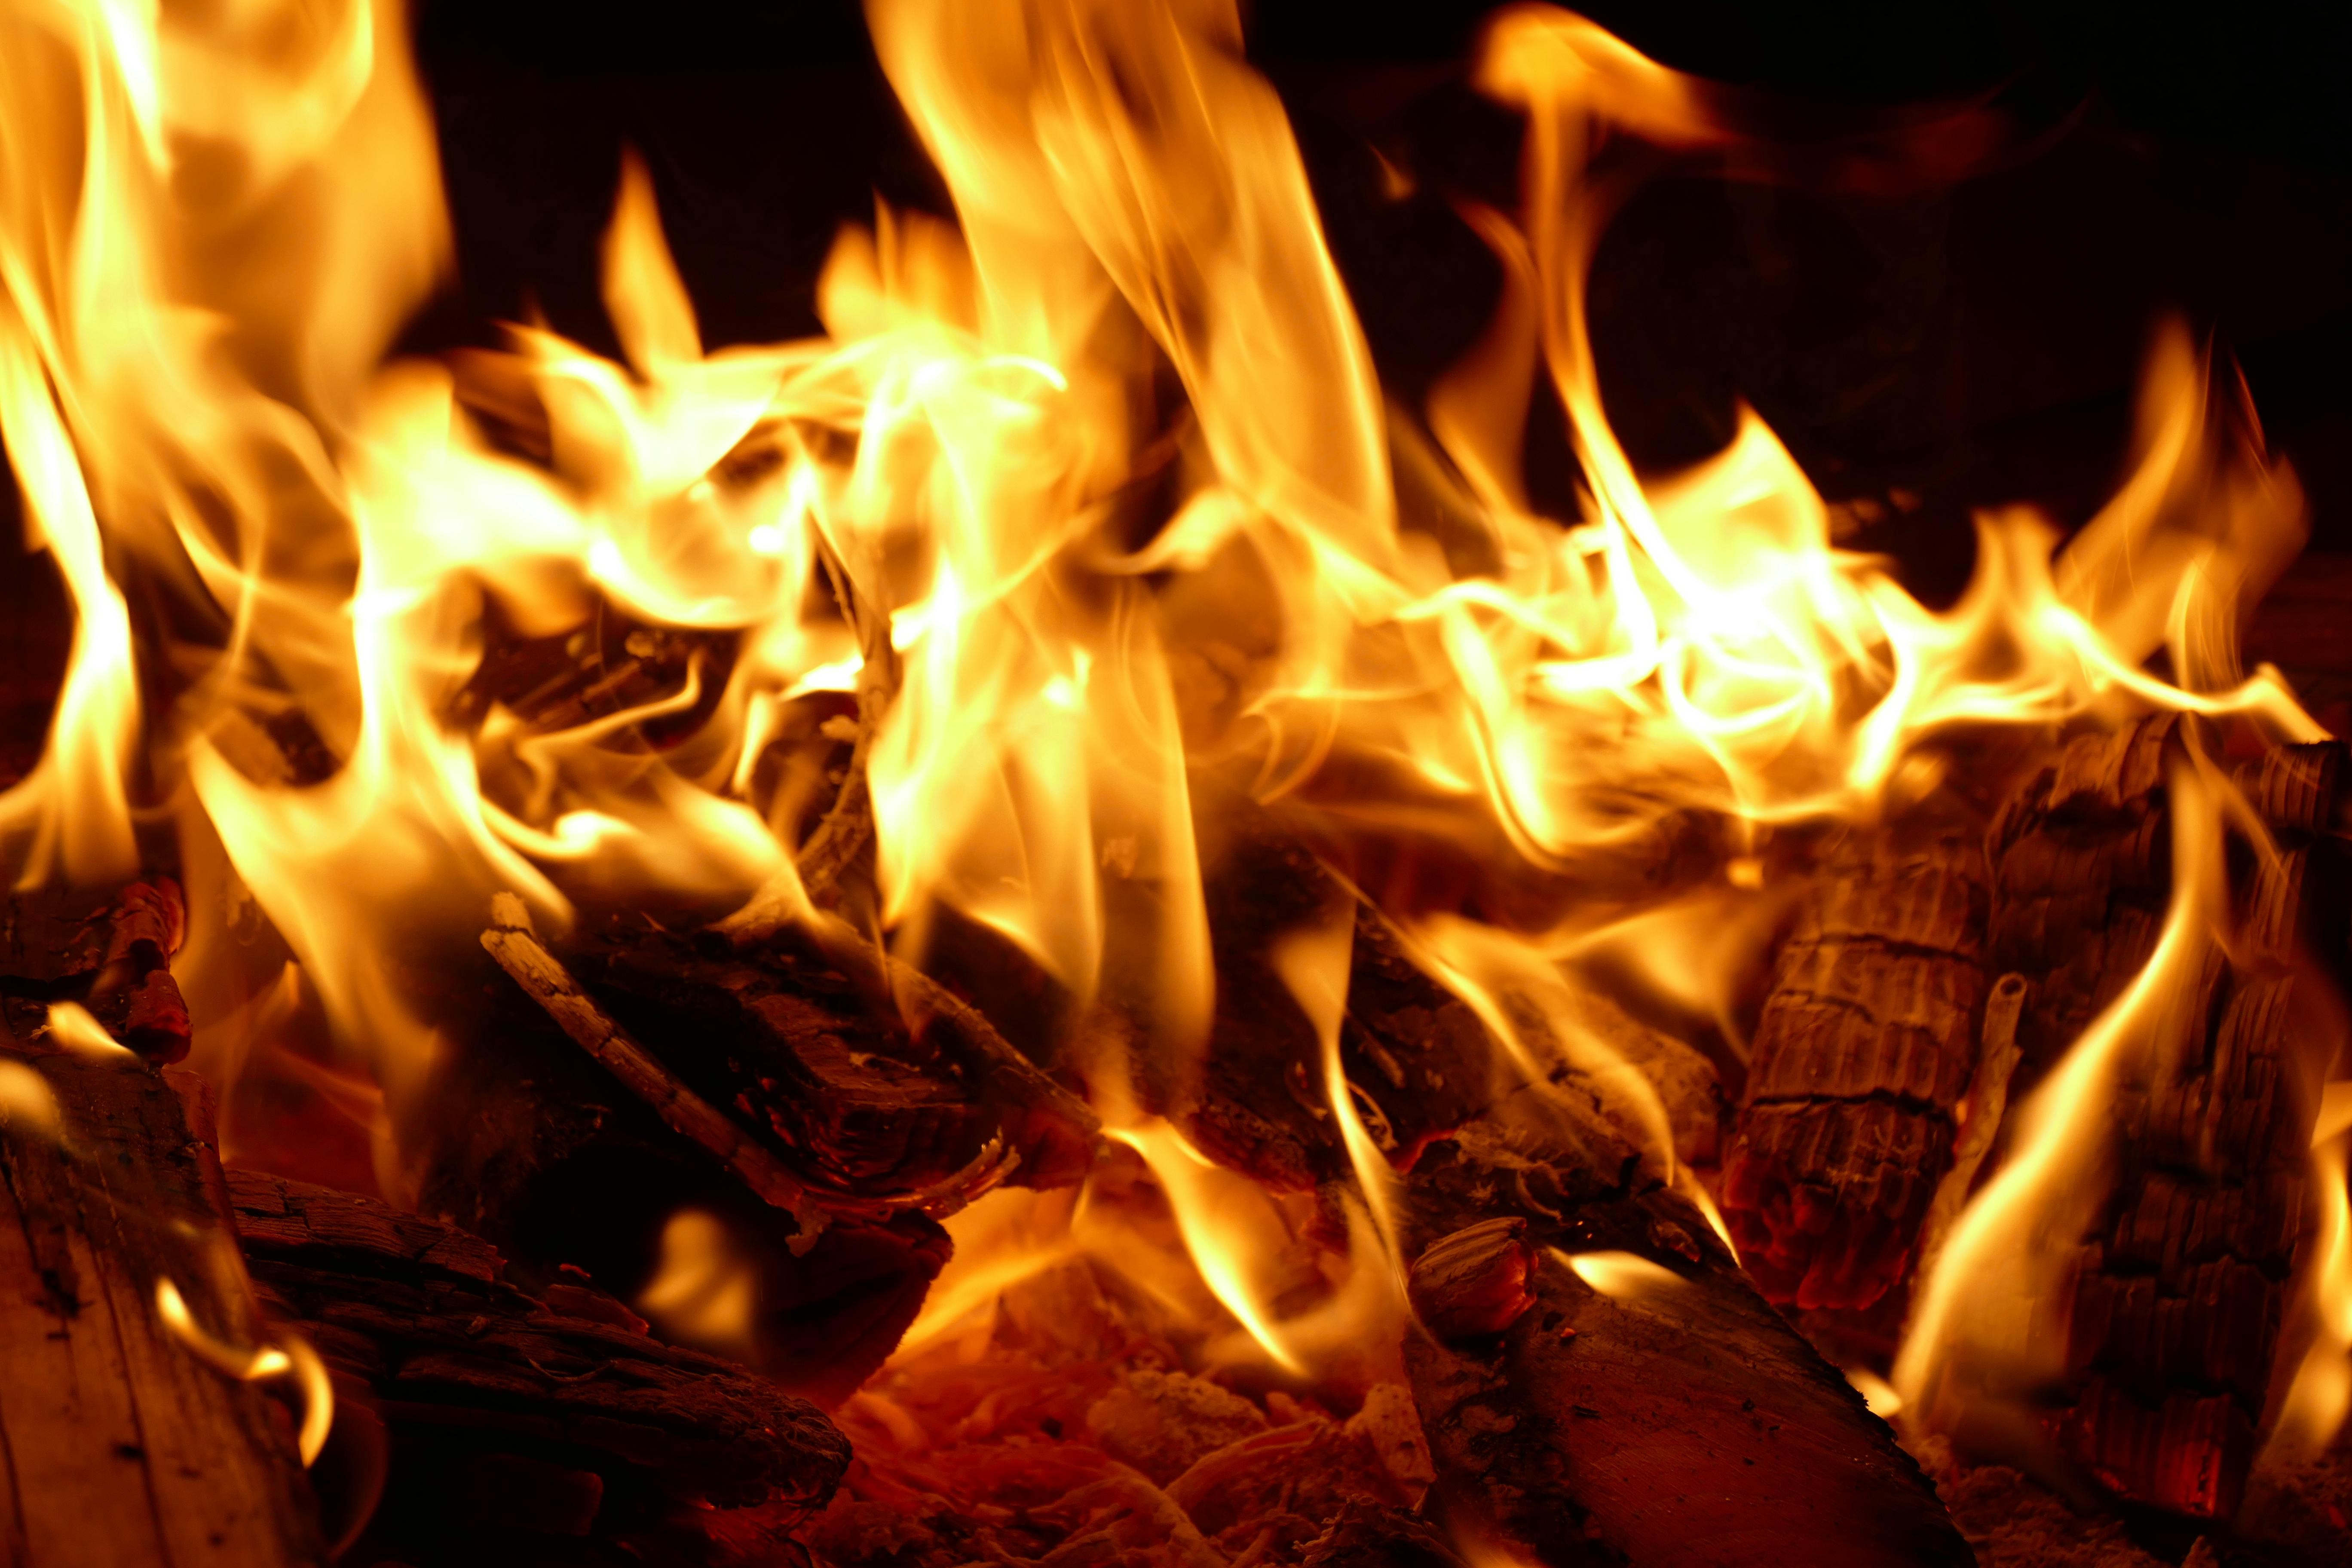smoke: (0, 0, 2331, 1127), (1858, 719, 2352, 1426), (917, 1116, 1673, 1430), (140, 1234, 345, 1470)
